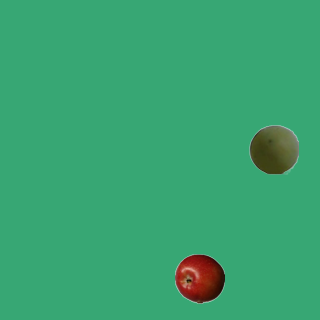Apple Braeburn: (174, 253, 224, 303)
Grape White 4: (248, 124, 298, 174)
